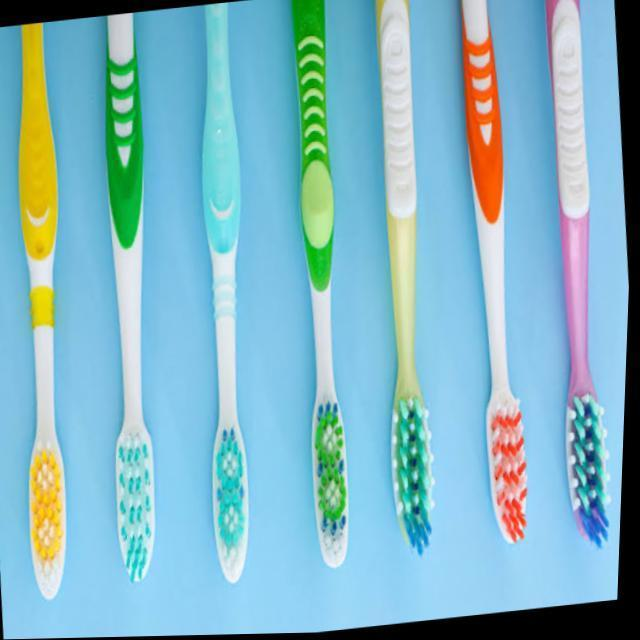toothbrush: (166, 3, 282, 593), (519, 0, 637, 560), (73, 14, 187, 592), (346, 0, 462, 564), (435, 0, 552, 556), (268, 0, 376, 576), (0, 20, 102, 604)
